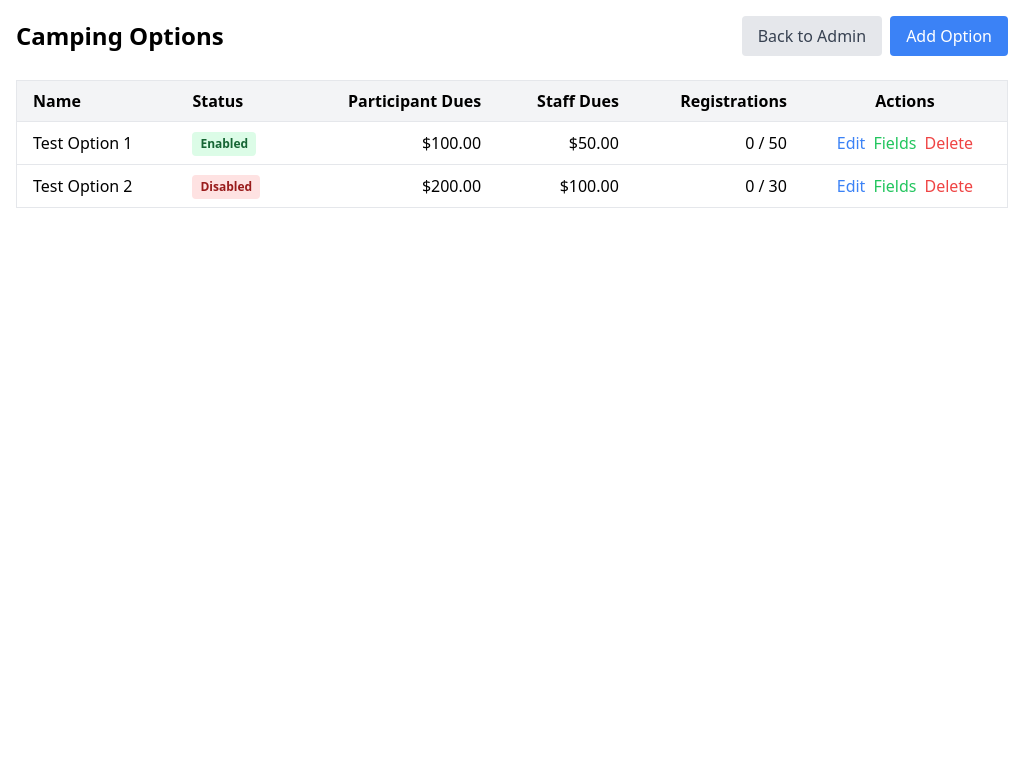
AdminCampingOptionsPage › opens delete confirmation modal when delete button is clicked
# Click the delete button for the first option
Click the button "Delete" in the row of "Test Option 1". click: coordinates (949, 143)
box: [924, 131, 973, 155]
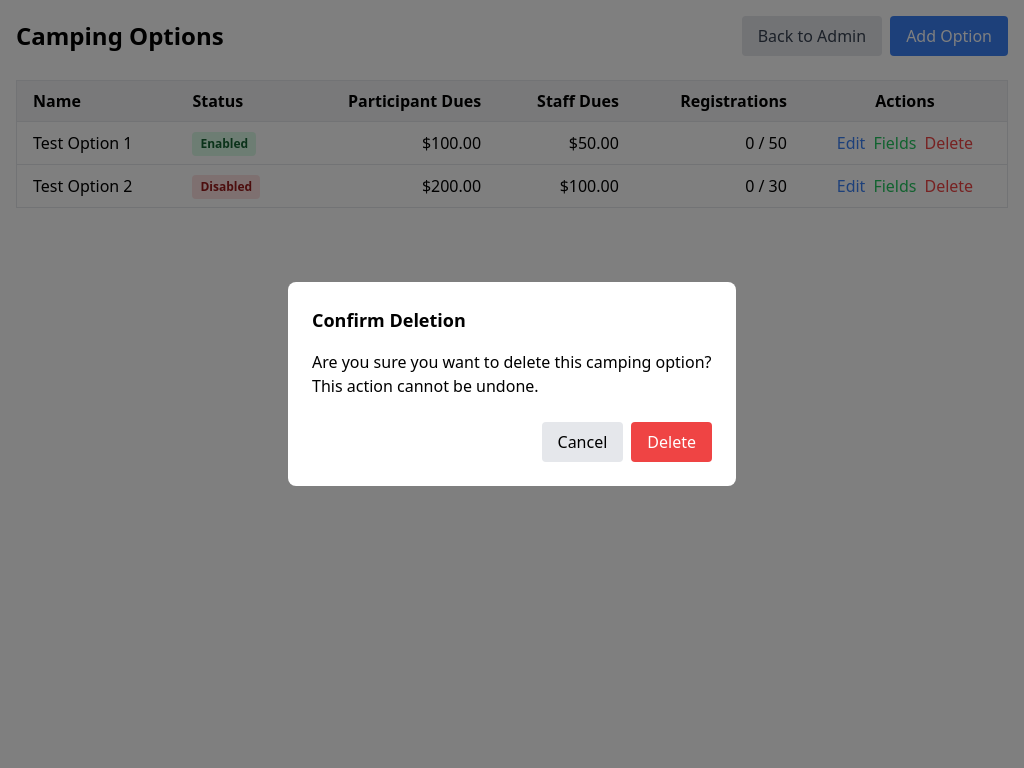
Now the heading "Confirm Deletion" is shown, box [312, 308, 466, 332]
Now the text "Are you sure you want to delete this camping option" is shown, box [312, 351, 712, 397]
